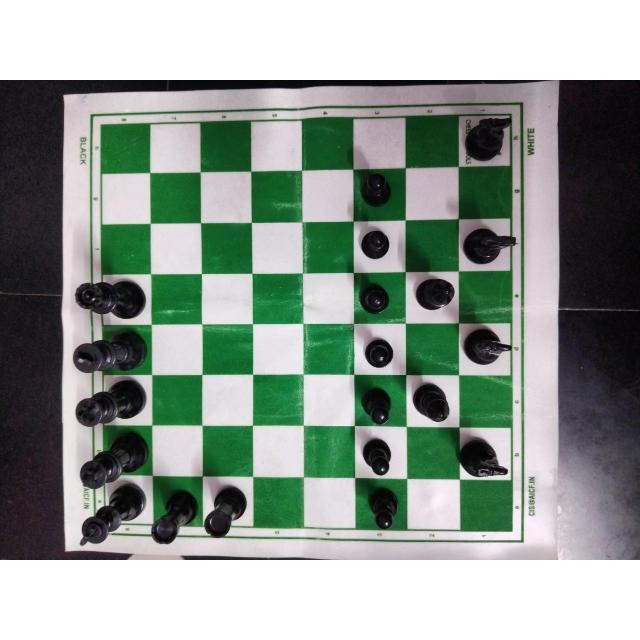black-bishop: (408, 270, 459, 318), (410, 375, 458, 423)
black-king: (75, 484, 151, 548), (67, 432, 151, 489), (70, 326, 152, 373), (72, 379, 148, 428)
black-knight: (456, 429, 516, 486), (458, 220, 518, 266), (460, 112, 514, 160), (458, 324, 513, 365)
black-pawn: (358, 485, 403, 532), (354, 432, 397, 479), (354, 168, 398, 212), (359, 333, 401, 371), (358, 277, 396, 318), (359, 386, 397, 426), (358, 228, 394, 266)
black-queen: (72, 278, 148, 320)
black-rook: (150, 487, 200, 544), (204, 477, 248, 541)
